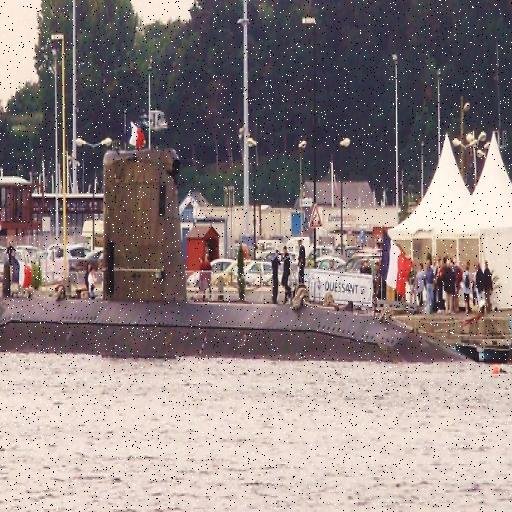submarine: (1, 151, 512, 366)
